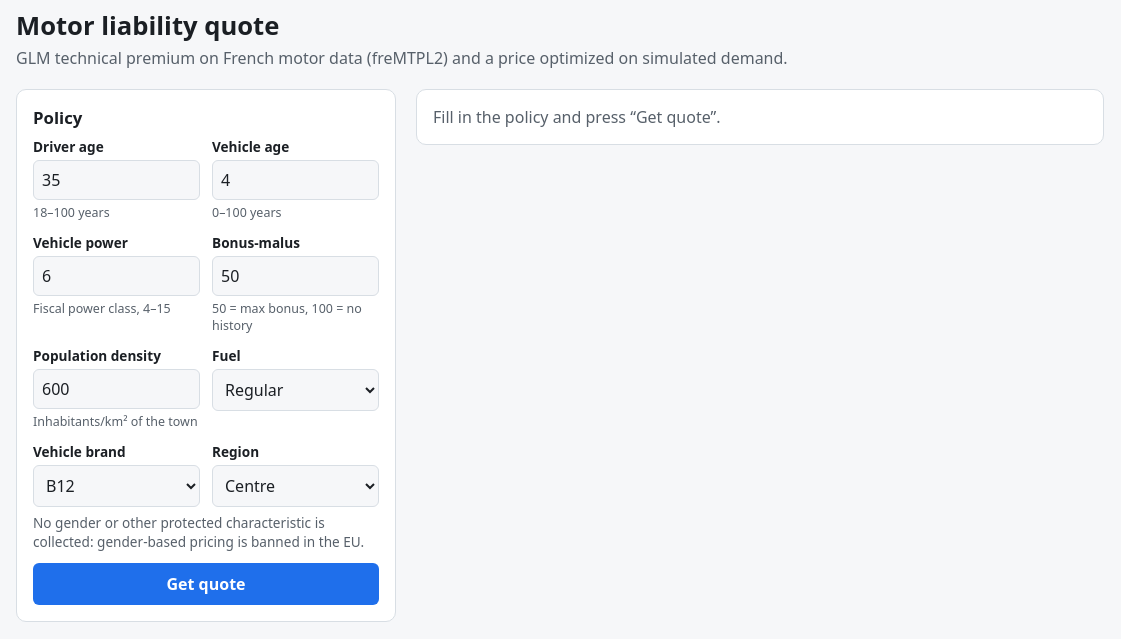
Test: App › surfaces API errors
Click the button "Get quote": (206, 584) x1=33 y1=563 x2=379 y2=605
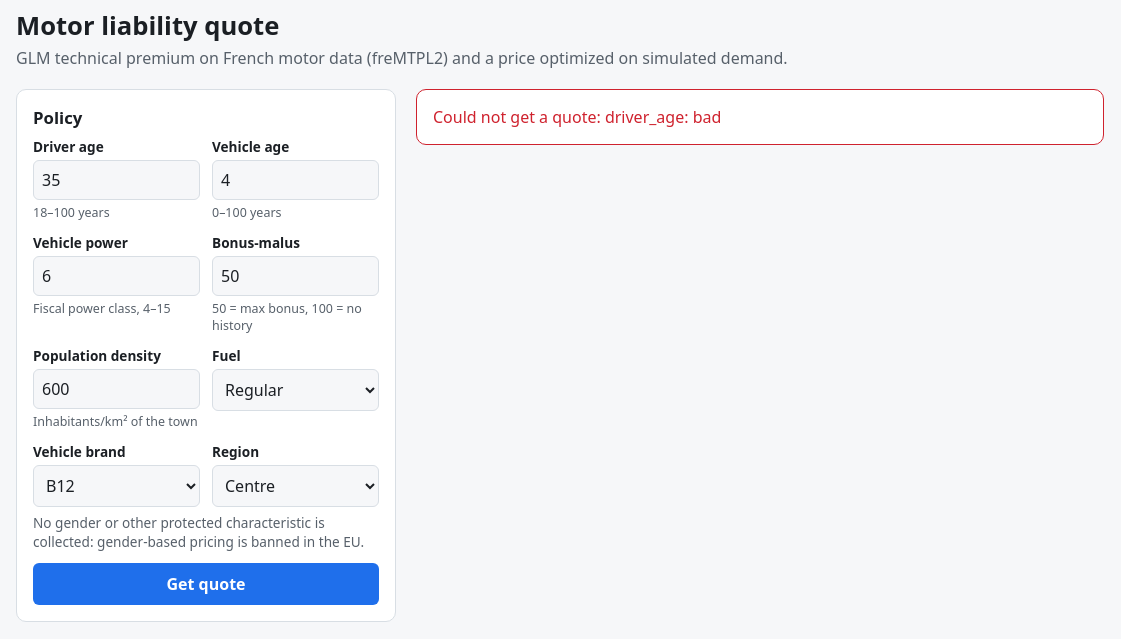
Result: the message shows "driver_age: bad" at x1=605 y1=106 x2=721 y2=128
